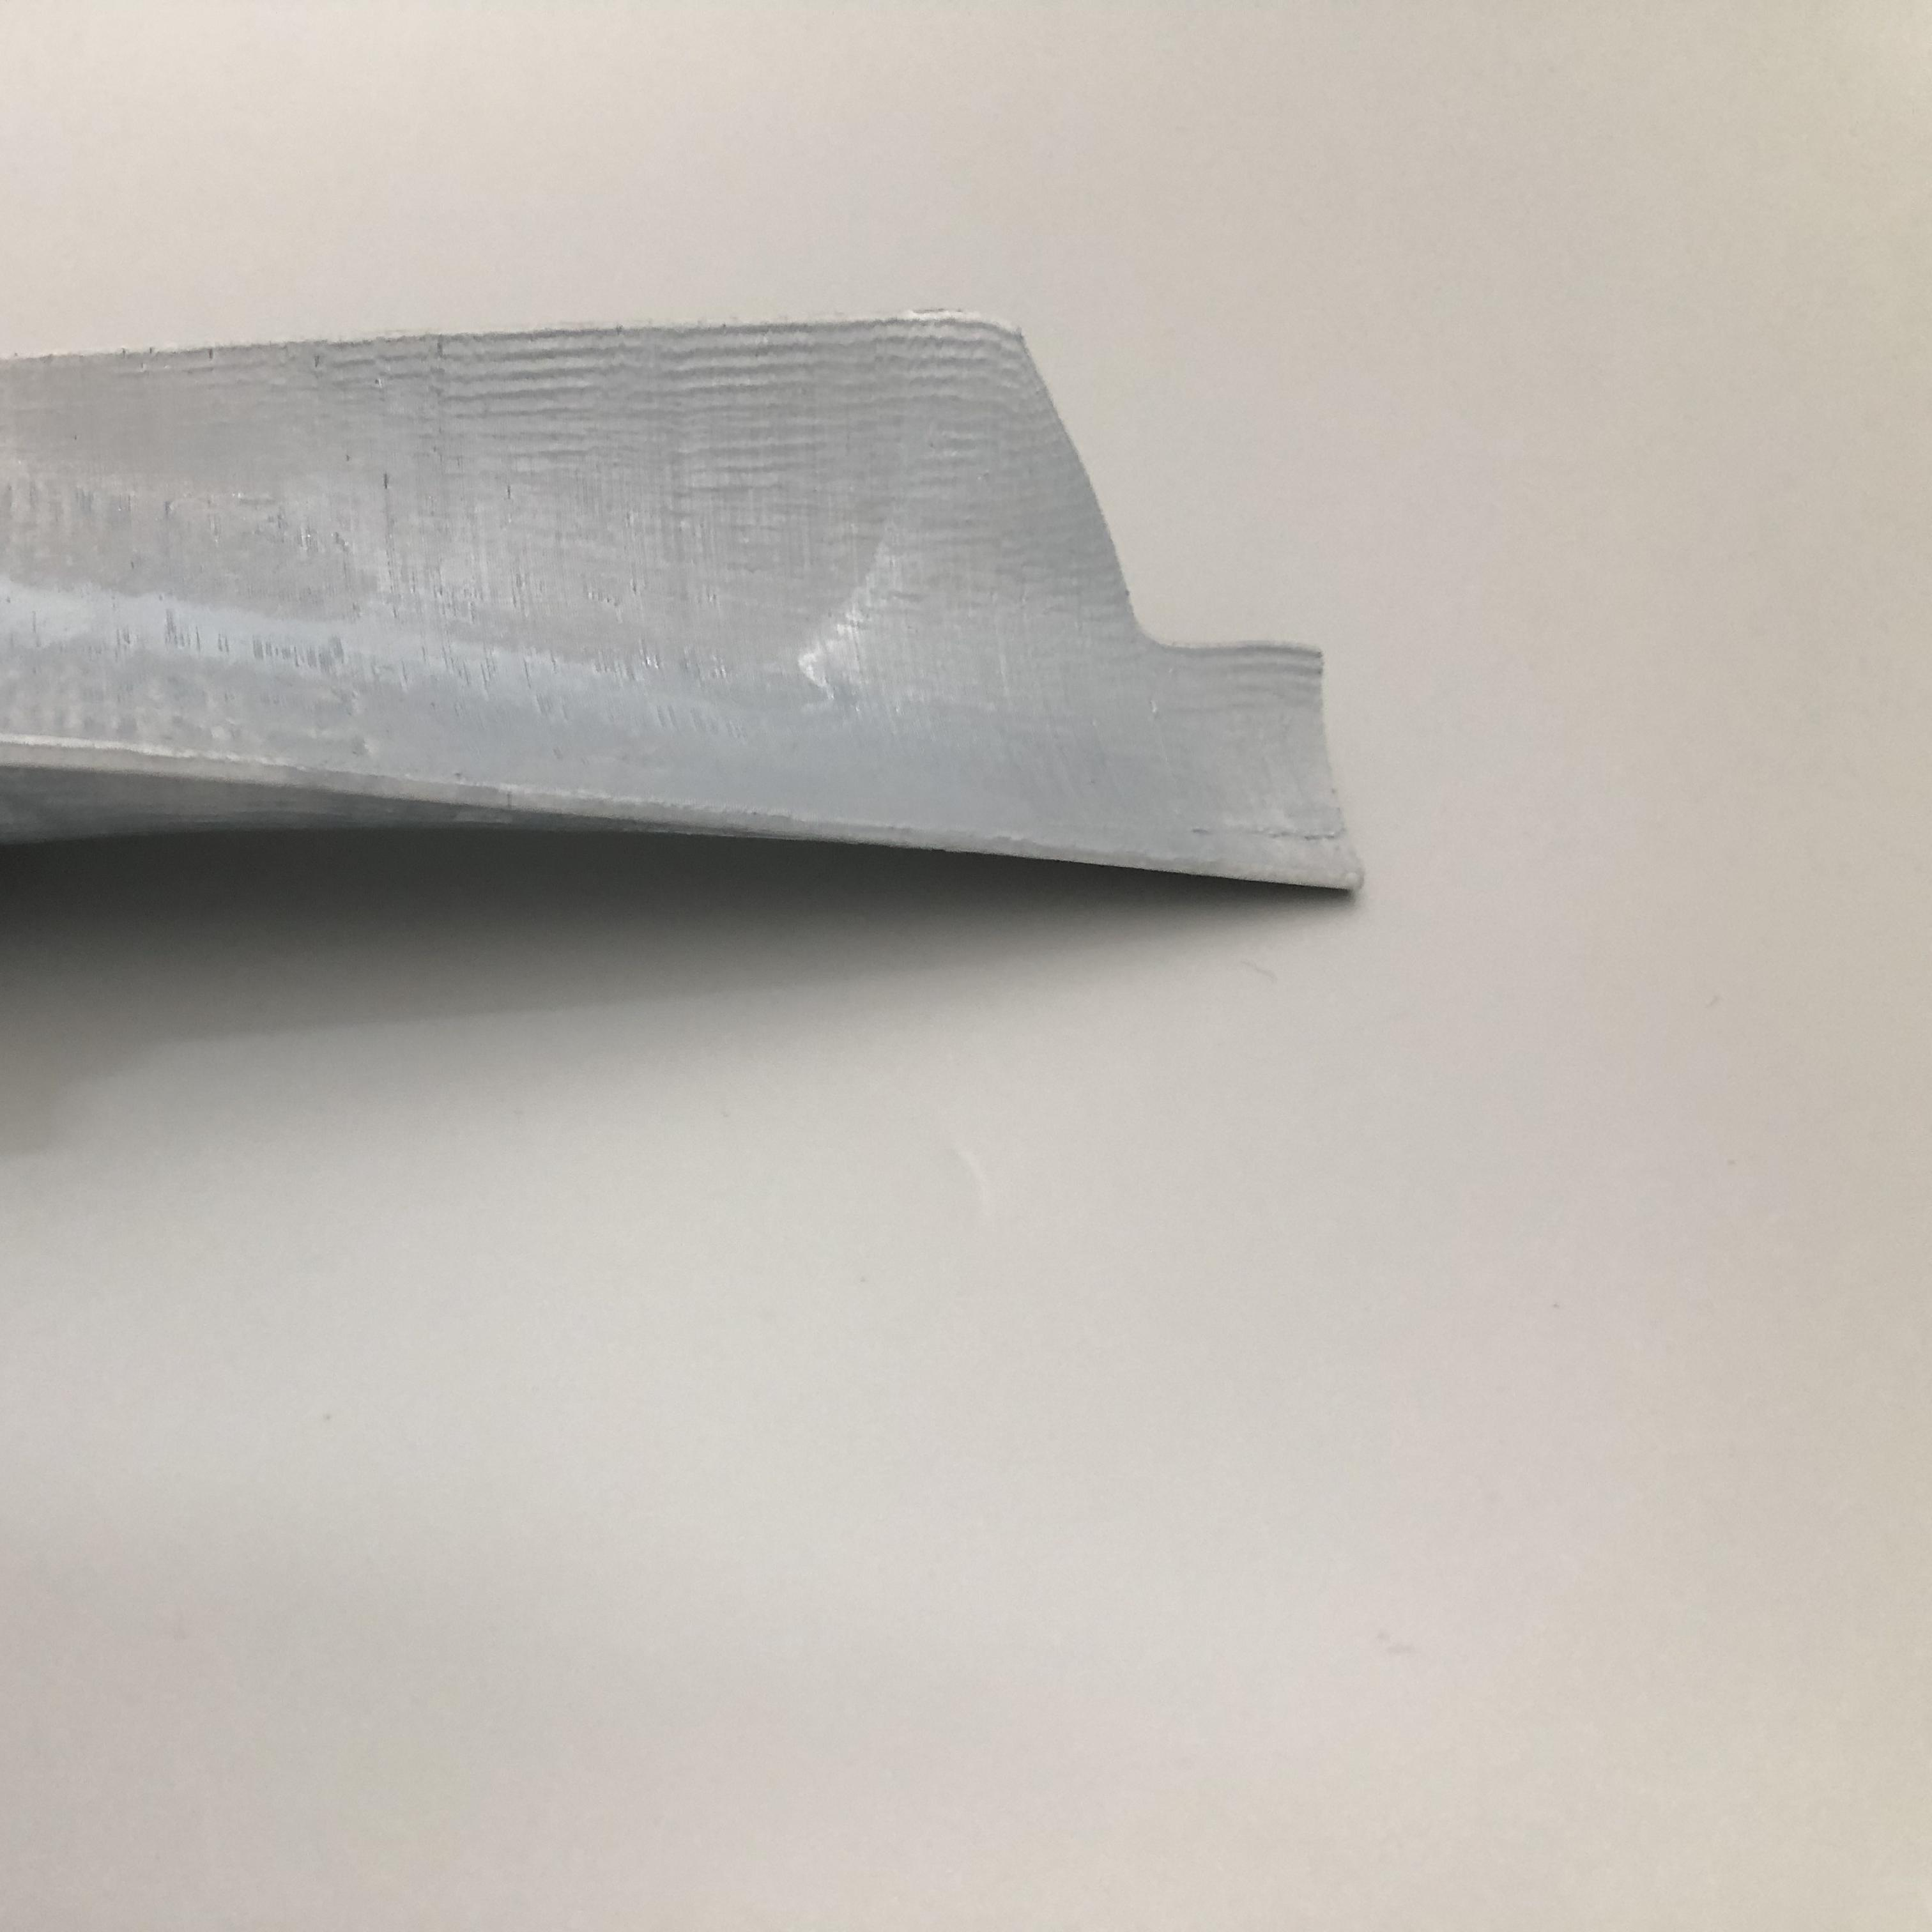fracture: (1007, 333, 1316, 674)
